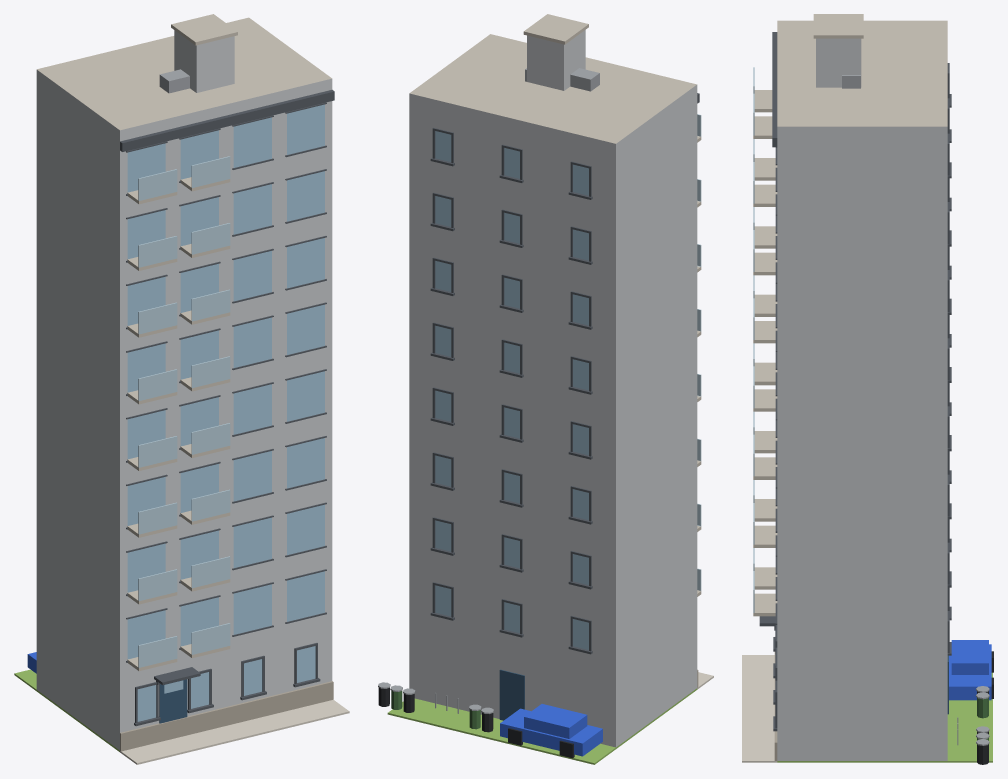
Rendered from Blok_duz_9k_1_Hafif.fbx.
3 renders of one model, left to right at view 1: azimuth 30°, elevation 25°; view 2: azimuth 150°, elevation 25°; view 3: azimuth 270°, elevation 25°, orthographic. The views are drawn at different scales.
Parts seen in each view (by area): view 1: Blok_duz_9k_1_Hafif; view 2: Blok_duz_9k_1_Hafif; view 3: Blok_duz_9k_1_Hafif.
Part boxes in pixels (x1,y1,x2,y2): Blok_duz_9k_1_Hafif: [14, 14, 349, 764]; Blok_duz_9k_1_Hafif: [378, 14, 713, 764]; Blok_duz_9k_1_Hafif: [742, 14, 993, 764].
Bounding box in the file's own units: 10.67 × 30.33 × 10.04.
